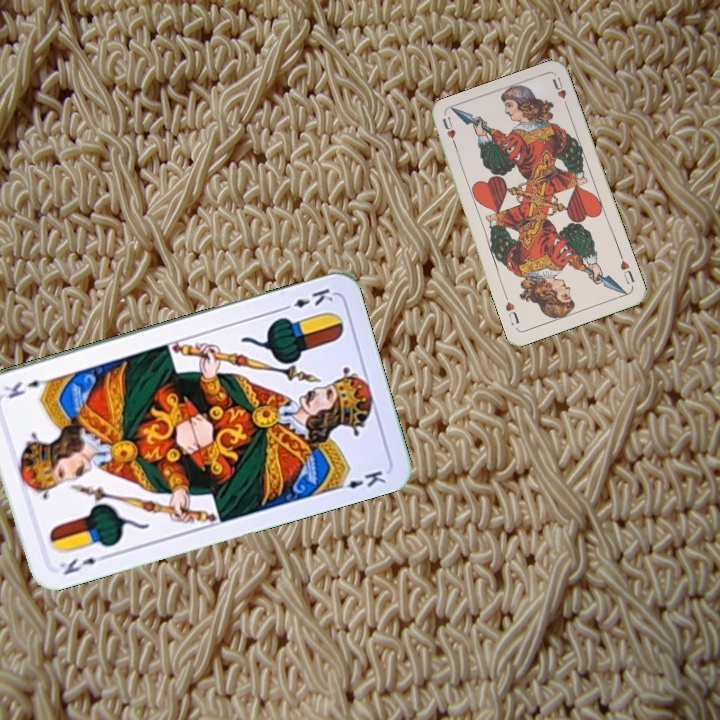EK: (277, 284, 336, 314), (55, 550, 110, 578)
HU: (438, 113, 460, 152), (616, 250, 637, 287)
